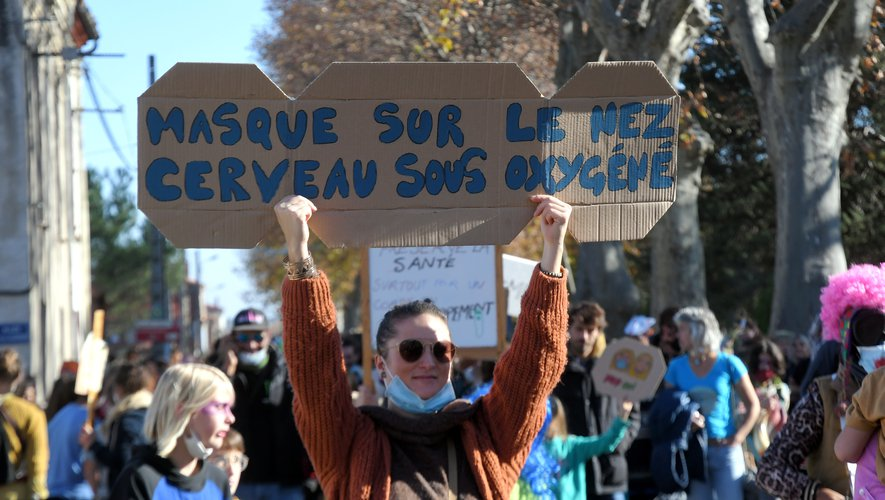with_incorrect_mask: (374, 322, 459, 418), (177, 371, 236, 460), (227, 318, 271, 367)
without_mask: (574, 317, 600, 361)
